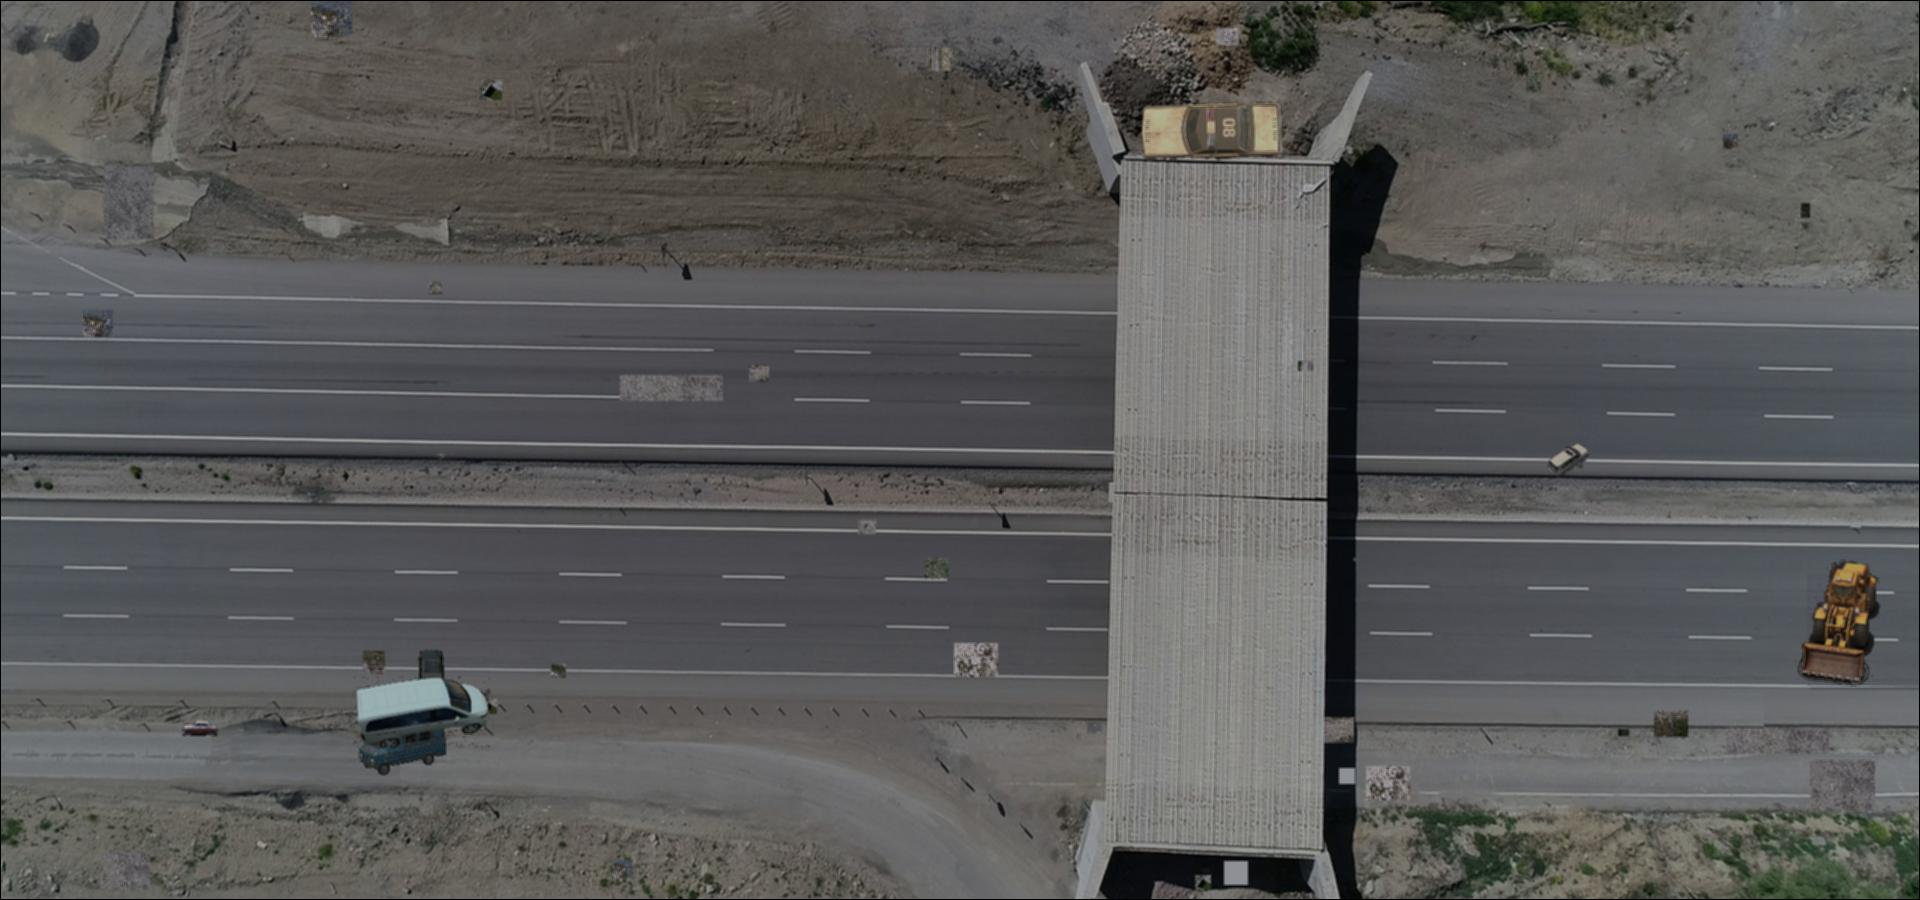arac: (1787, 551, 1884, 688), (353, 677, 490, 748), (1138, 100, 1284, 162), (358, 720, 446, 775), (1547, 444, 1589, 478), (416, 650, 446, 692), (182, 721, 218, 737)
